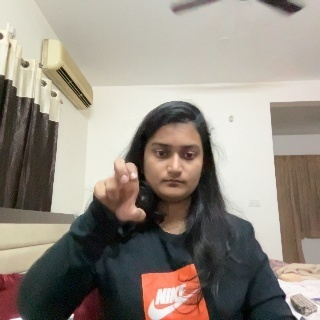No: (84, 153, 146, 255)
